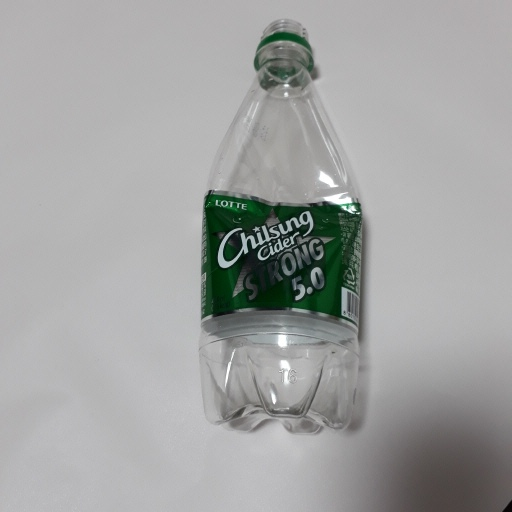Plastic_0: (195, 15, 359, 436)
